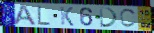6: (79, 7, 95, 27)
A: (13, 4, 38, 27)
C: (119, 8, 138, 29)
D: (98, 6, 119, 28)
K: (60, 6, 75, 27)
L: (37, 5, 52, 26)
